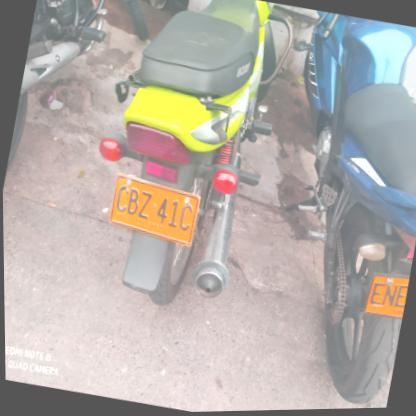placa: (100, 168, 204, 252), (357, 263, 410, 325)
